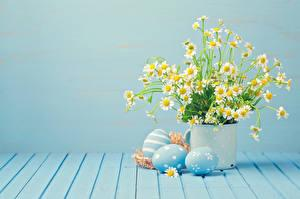chamomile: (228, 103, 256, 121), (150, 59, 174, 77), (144, 71, 163, 90), (216, 88, 245, 100), (185, 111, 205, 128), (124, 89, 140, 107), (221, 21, 236, 39), (182, 42, 197, 59), (247, 125, 262, 142), (277, 106, 290, 125), (158, 82, 175, 96), (218, 62, 237, 74), (260, 89, 275, 103), (178, 83, 190, 99), (163, 97, 174, 113), (170, 71, 183, 83), (198, 13, 209, 26), (211, 24, 222, 36), (184, 67, 196, 77), (194, 21, 204, 32), (260, 56, 269, 68), (167, 168, 174, 180)
